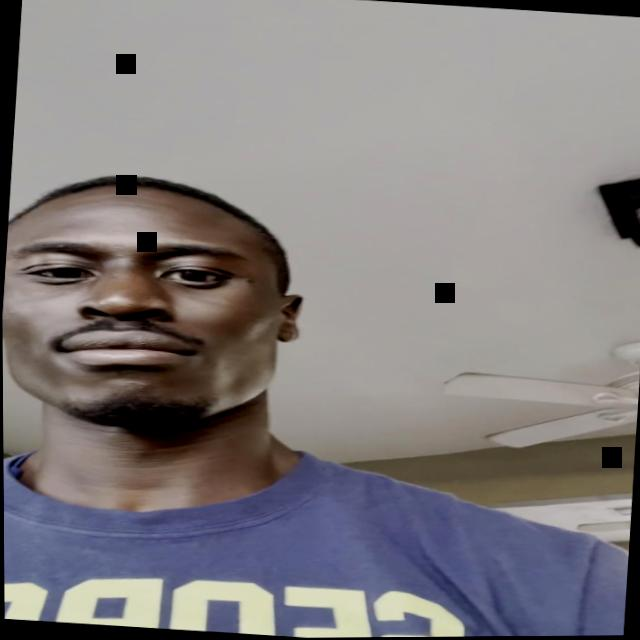NO-Mask: (1, 173, 306, 450)
